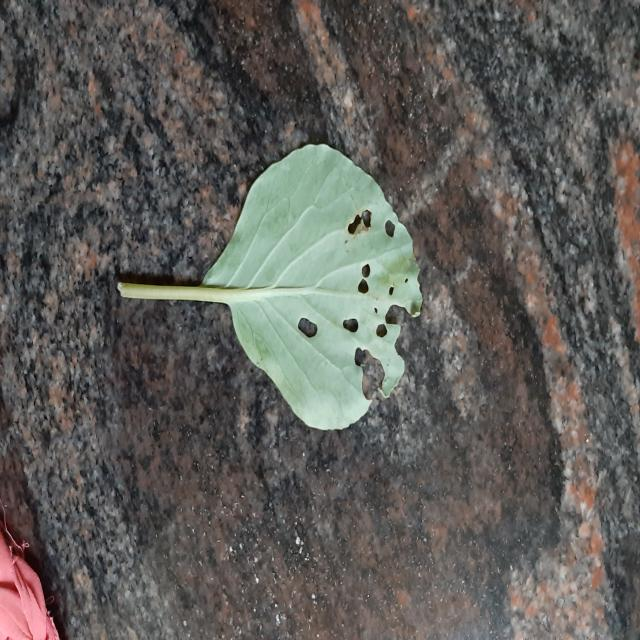Kohlrabi: (118, 144, 422, 429)
